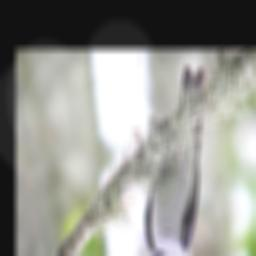Swallow: (143, 64, 210, 256)
